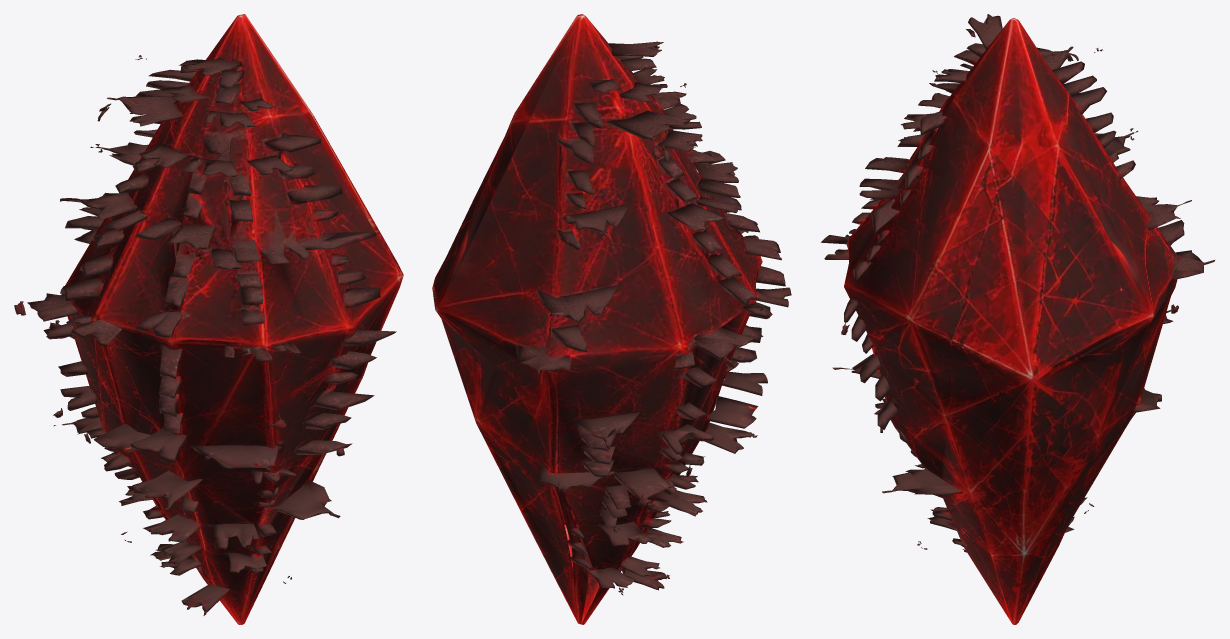
Rendered from corrupt-relic.glb.
The picture shows the model from 3 angles, left to right: view 1: azimuth 30°, elevation 25°; view 2: azimuth 150°, elevation 25°; view 3: azimuth 270°, elevation 25°; orthographic projection.
Parts seen in each view (by area): view 1: tripo_node_a1c84d37-79ef-4b46-a593-e62f7904cae8; view 2: tripo_node_a1c84d37-79ef-4b46-a593-e62f7904cae8; view 3: tripo_node_a1c84d37-79ef-4b46-a593-e62f7904cae8.
Part boxes in pixels (bbox=[...]): tripo_node_a1c84d37-79ef-4b46-a593-e62f7904cae8: bbox=[14, 14, 403, 624]; tripo_node_a1c84d37-79ef-4b46-a593-e62f7904cae8: bbox=[432, 14, 791, 624]; tripo_node_a1c84d37-79ef-4b46-a593-e62f7904cae8: bbox=[821, 14, 1214, 624].
Bounding box in the file's own units: 0.5605 × 0.998 × 0.5918.
1 material, 1 textured.
